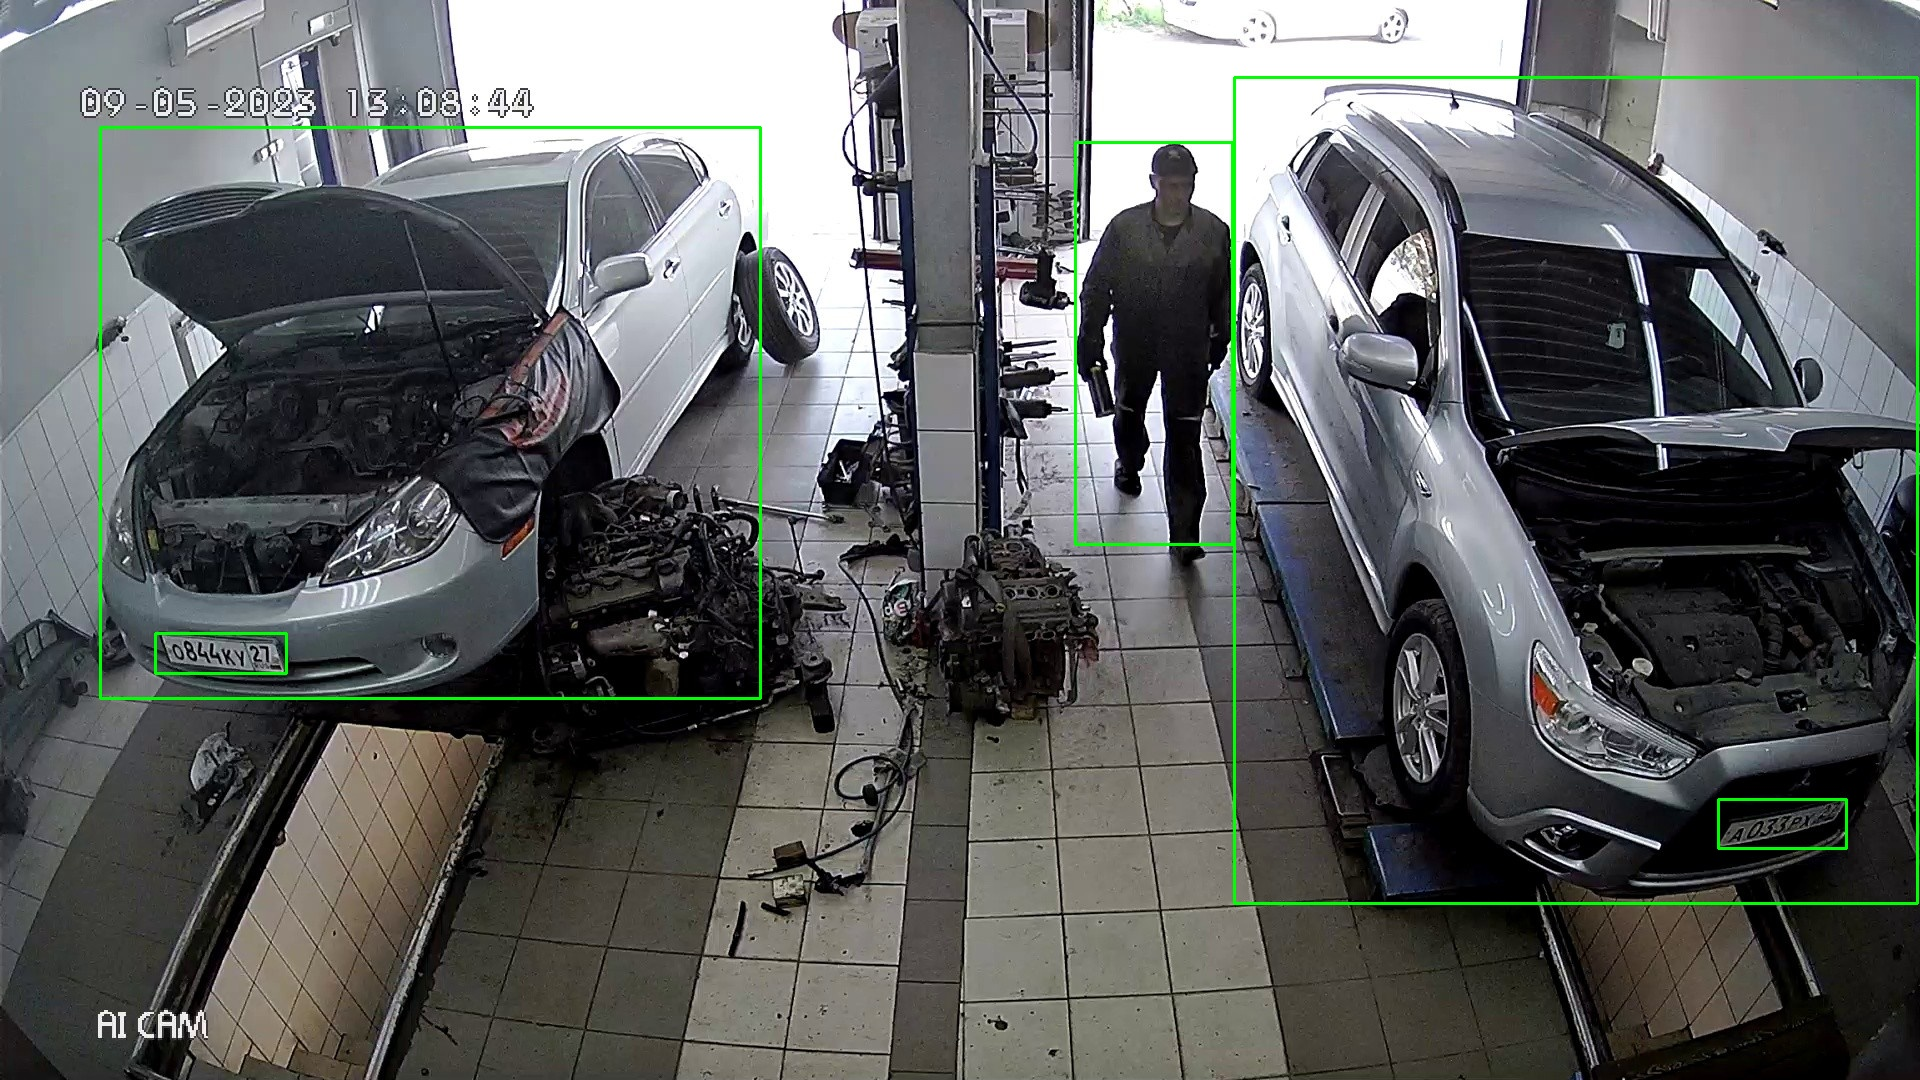car: (1234, 77, 1917, 903), (100, 127, 760, 698)
person: (1718, 799, 1846, 848), (155, 633, 286, 673)
plate: (1075, 142, 1232, 544)
